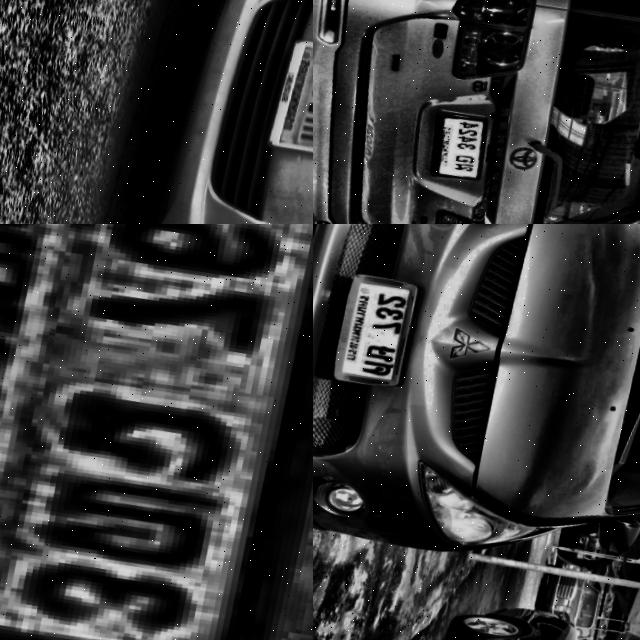license-plate: (0, 224, 313, 640), (323, 263, 429, 396), (264, 34, 313, 163), (428, 110, 500, 186)
